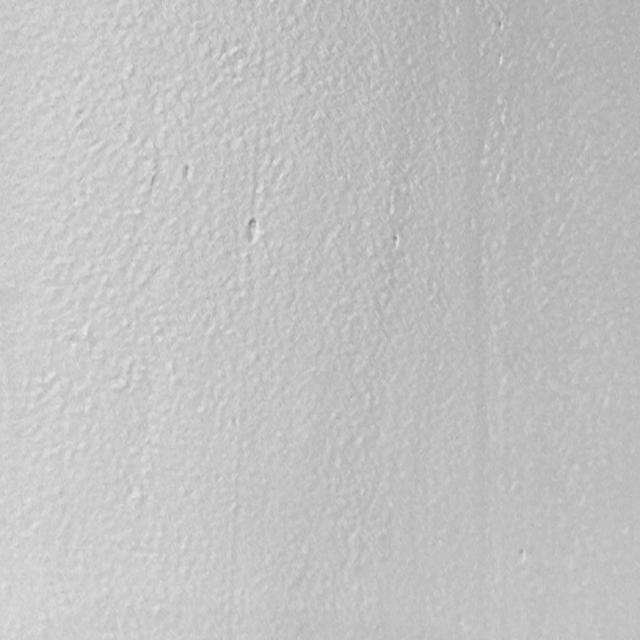pin holes: (241, 215, 262, 246), (388, 230, 404, 252), (180, 163, 197, 183), (514, 545, 530, 565)
